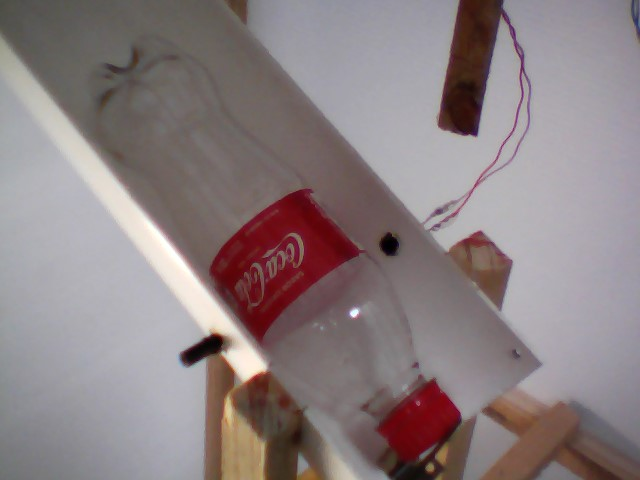plastico: (78, 32, 470, 468)
